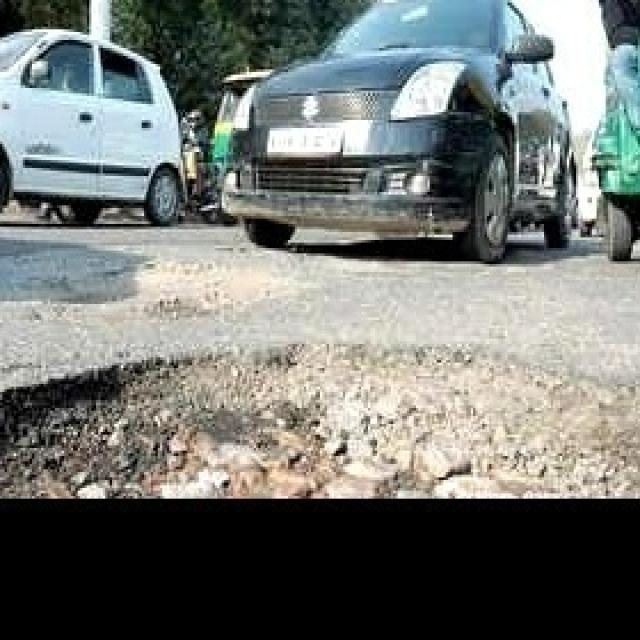road-pothole: (2, 343, 638, 499)
